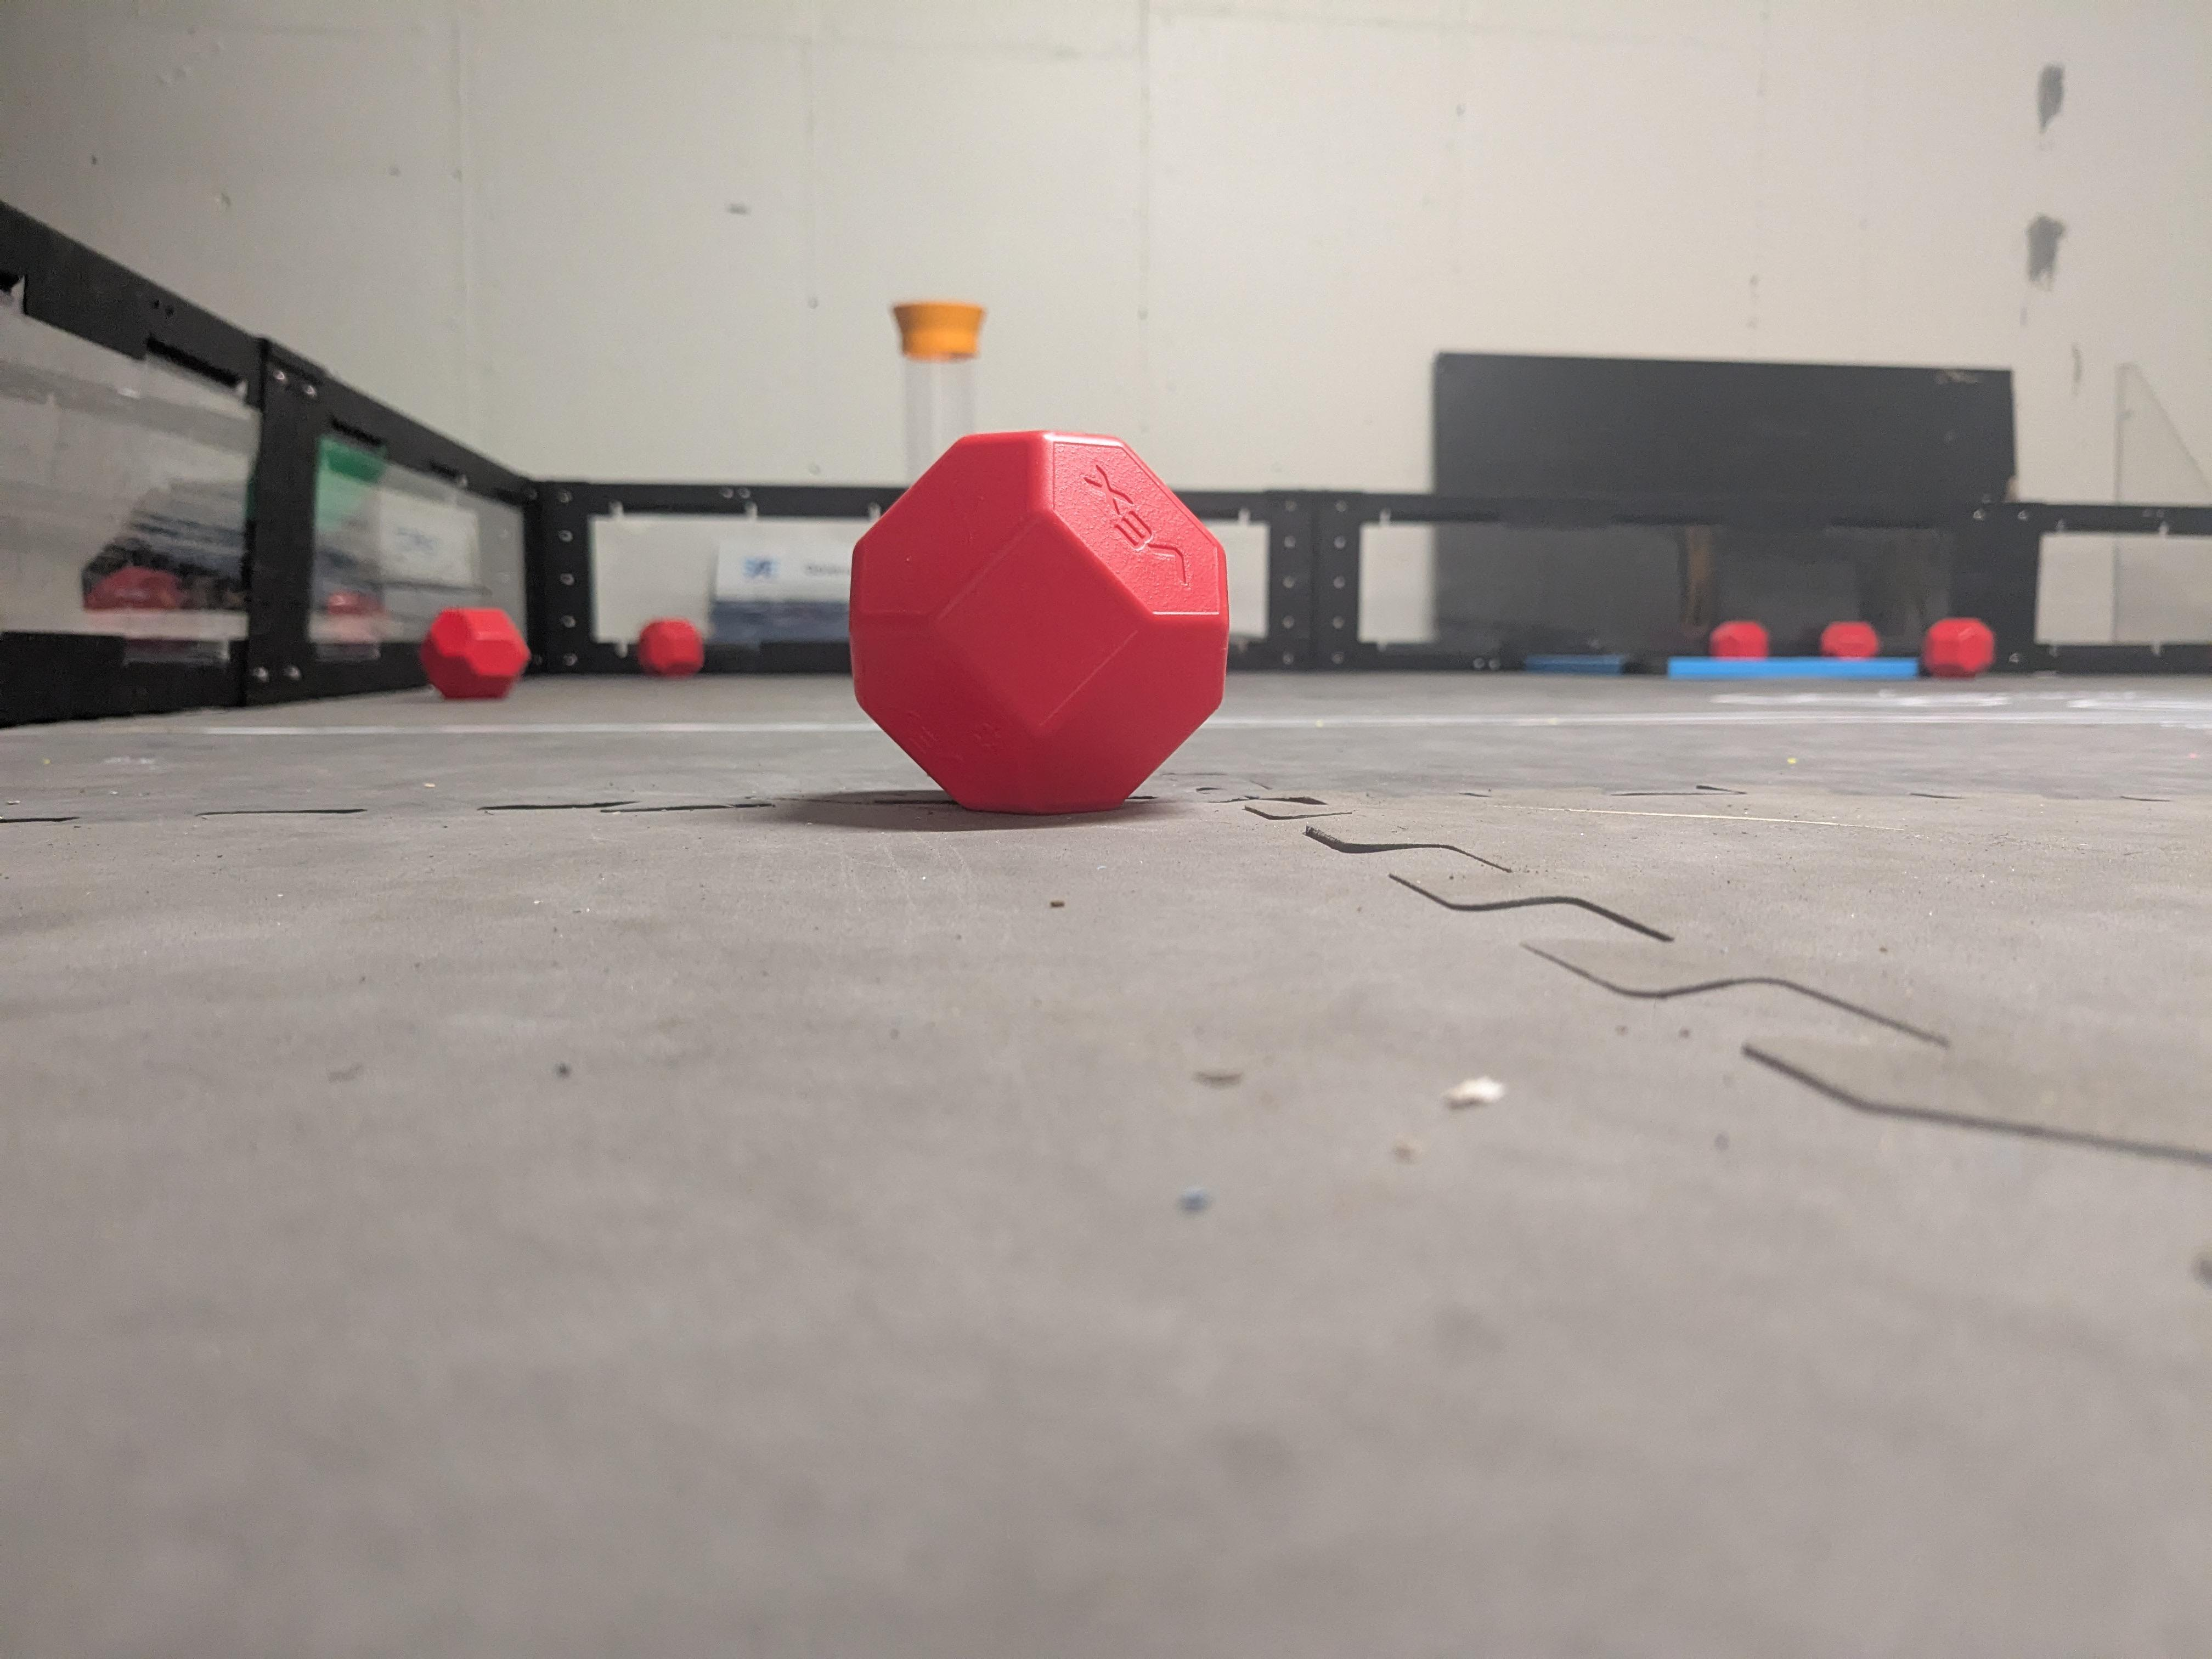Vex-Pieces-RED: (857, 436, 1230, 810)
